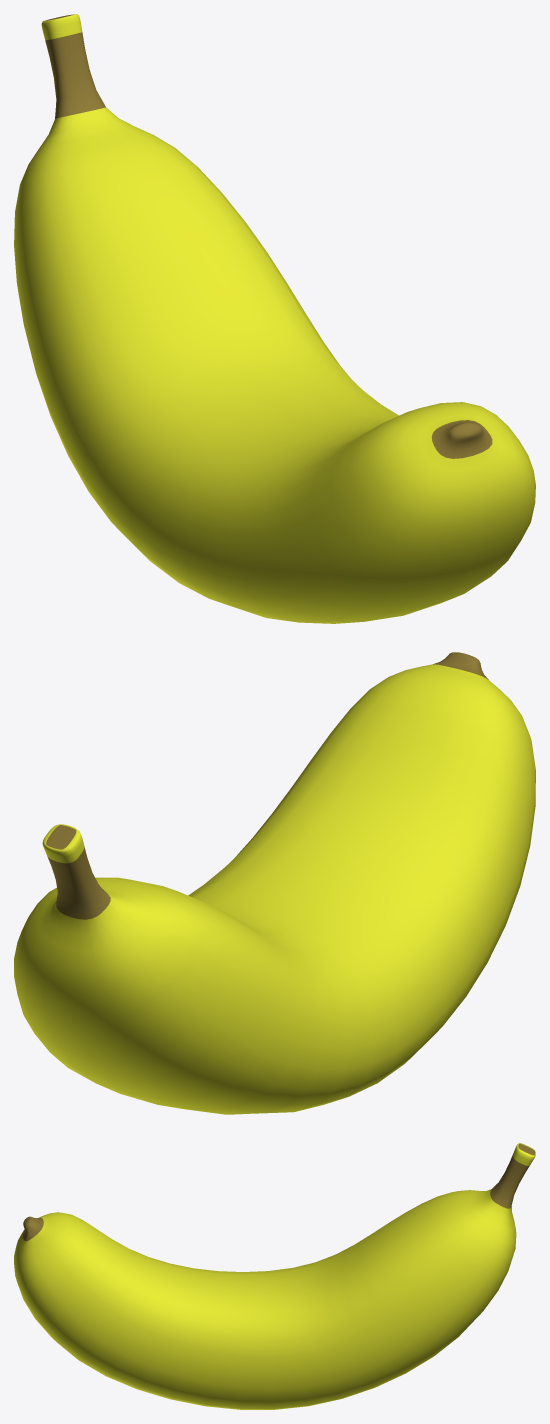
File: bAnan.fbx
The picture shows the model from 3 angles, top to bottom: view 1: azimuth 30°, elevation 25°; view 2: azimuth 150°, elevation 25°; view 3: azimuth 270°, elevation 25°; orthographic projection. The views are drawn at different scales.
Parts seen in each view (by area): view 1: Cube; view 2: Cube; view 3: Cube.
Part boxes in pixels (x1,y1,x2,y2): Cube: (14,14,535,623); Cube: (14,652,535,1114); Cube: (14,1143,535,1409).
Bounding box in the file's own units: 370 × 562 × 1071.
